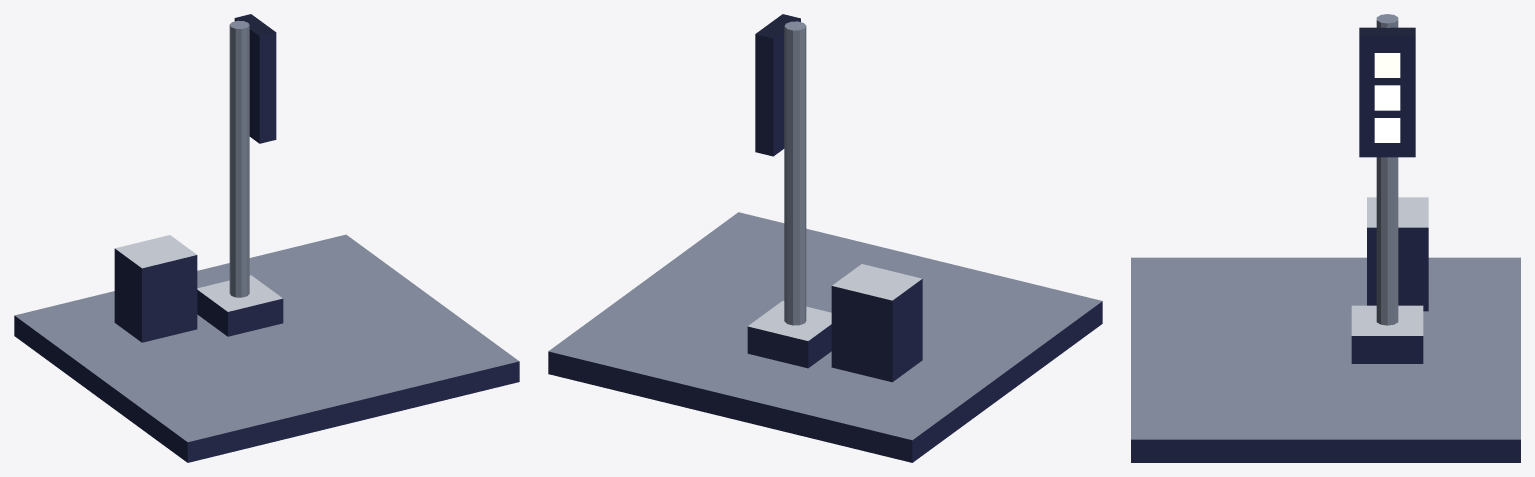
Rendered from rail-signal-mast.glb.
3 renders of one model, left to right at view 1: azimuth 30°, elevation 25°; view 2: azimuth 150°, elevation 25°; view 3: azimuth 270°, elevation 25°, orthographic. The views are drawn at different scales.
Visible parts, largest first — view 1: rail-signal-mast_root; view 2: rail-signal-mast_root; view 3: rail-signal-mast_root.
Boxes of the visible parts, x1=… form: rail-signal-mast_root: x1=14, y1=14, x2=519, y2=462; rail-signal-mast_root: x1=548, y1=14, x2=1102, y2=462; rail-signal-mast_root: x1=1131, y1=14, x2=1520, y2=462.
Bounding box in the file's own units: 8.4 × 7.6 × 7.6.
2 materials, 2 textured.
